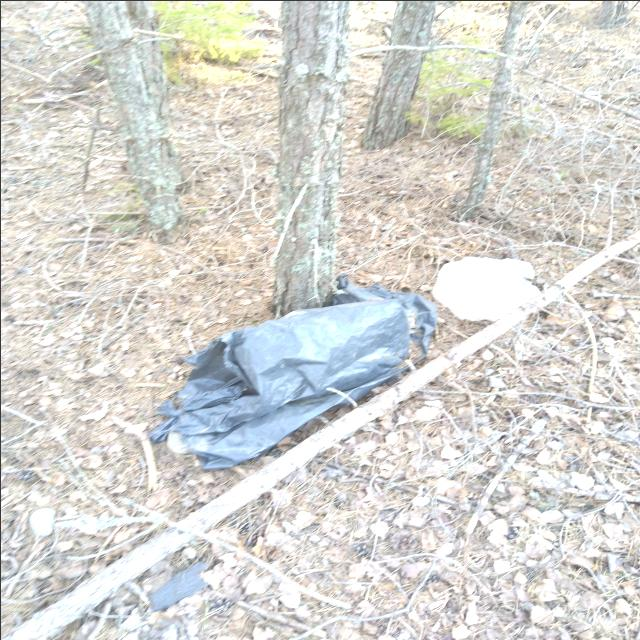Garbage bag: (147, 273, 436, 468)
Plastic film: (430, 255, 539, 321)
